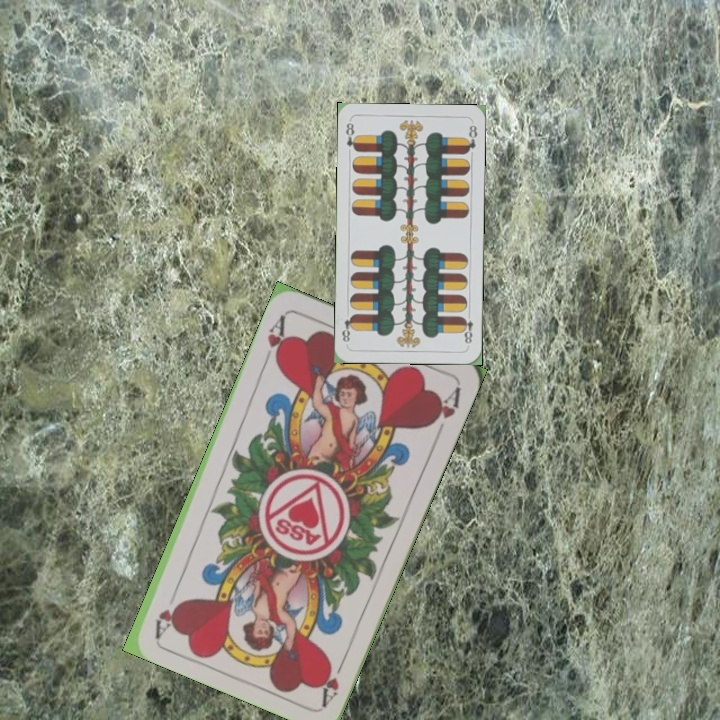E8: (458, 308, 475, 346), (342, 119, 360, 154)
HA: (316, 651, 349, 708), (260, 310, 290, 368)
